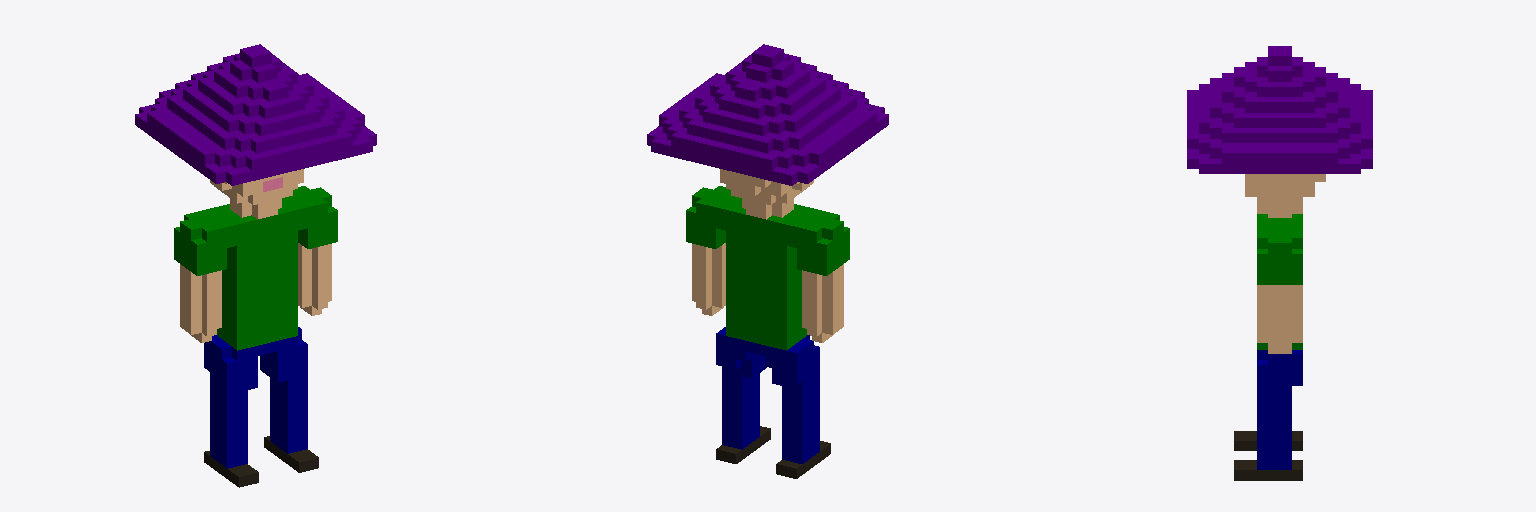
3 renders of one model, left to right at view 1: azimuth 30°, elevation 25°; view 2: azimuth 150°, elevation 25°; view 3: azimuth 270°, elevation 25°, orthographic.
Parts seen in each view (by area): view 1: object 1; view 2: object 1; view 3: object 1.
Part boxes in pixels (bbox=[...]): object 1: bbox=[135, 44, 376, 487]; object 1: bbox=[647, 44, 888, 478]; object 1: bbox=[1187, 46, 1372, 480].
Bounding box in the file's own units: 1.6 × 3.9 × 1.6.
Materials: 1 (1 with a texture image).